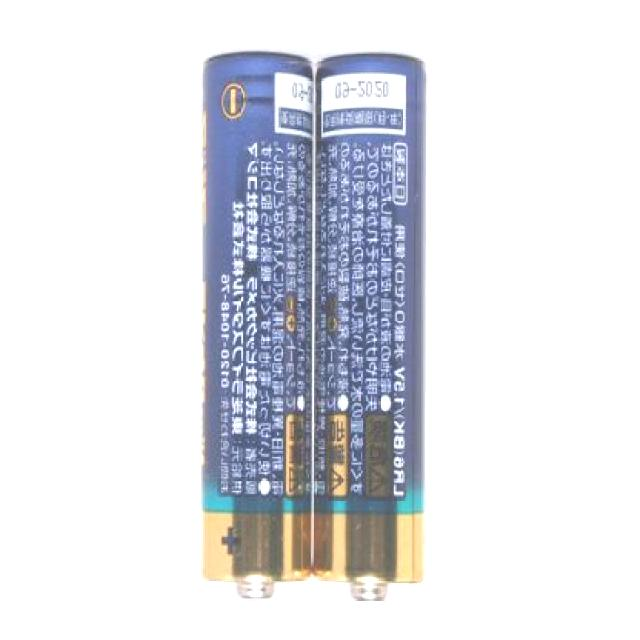AA: (311, 48, 434, 608), (195, 46, 314, 603)
